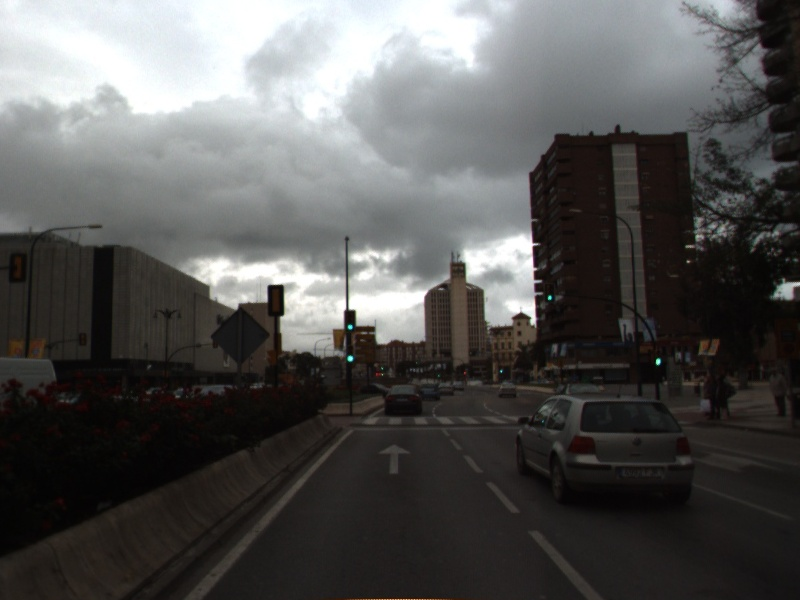STRAIGHT: (376, 441, 413, 476)
STRAIGHT_RIGHT: (690, 447, 786, 474)
